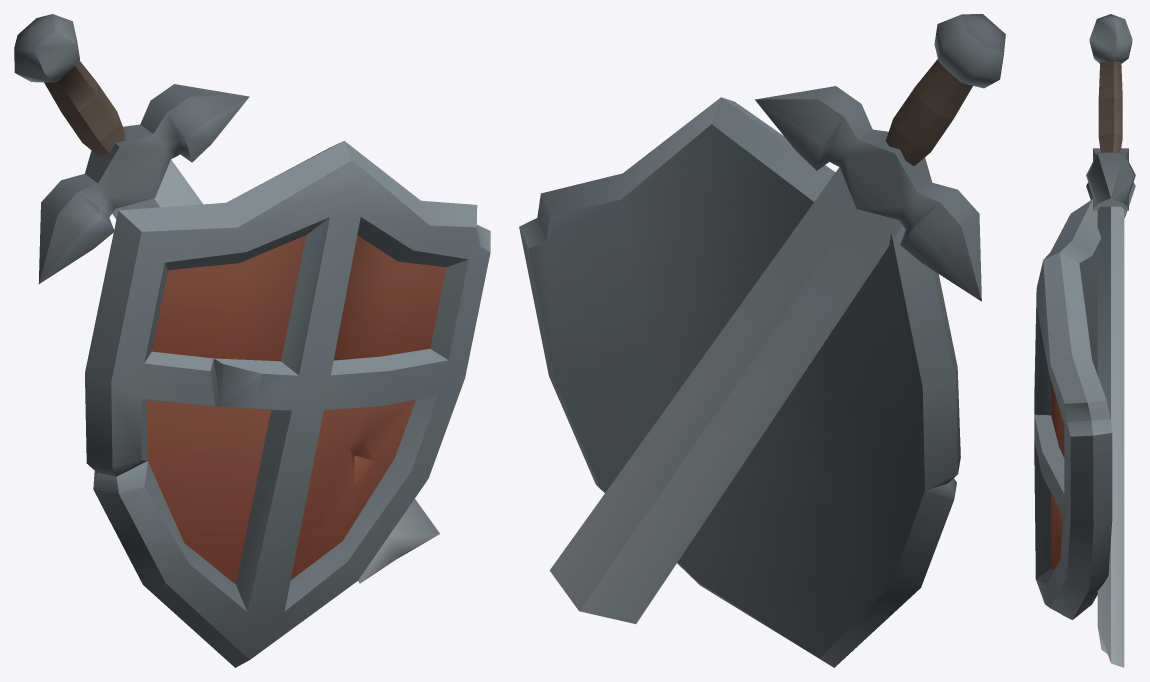
Rendered from kaykit-dungeon-remastered-sword-shield-broken-gltf.glb.
3 views of the same model, side by side, from view 1: azimuth 30°, elevation 25°; view 2: azimuth 150°, elevation 25°; view 3: azimuth 270°, elevation 25° (orthographic). The views are drawn at different scales.
Parts seen in each view (by area): view 1: sword_shield_broken; view 2: sword_shield_broken; view 3: sword_shield_broken.
Part boxes in pixels (x1,y1,x2,y2): sword_shield_broken: [14, 14, 490, 667]; sword_shield_broken: [519, 14, 1005, 667]; sword_shield_broken: [1034, 14, 1135, 667].
Bounding box in the file's own units: 1.43 × 1.96 × 0.3356.
1 material, 1 textured.
